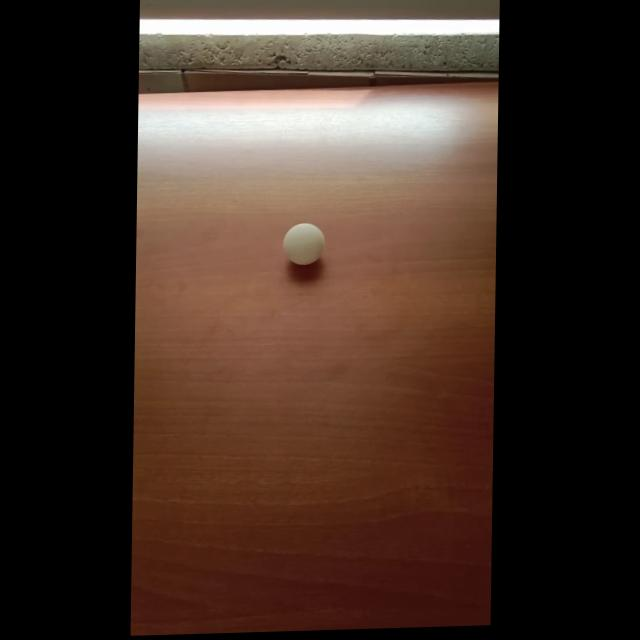white ball: (282, 221, 325, 267)
